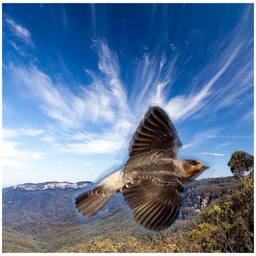Swallow: (72, 103, 215, 234)
